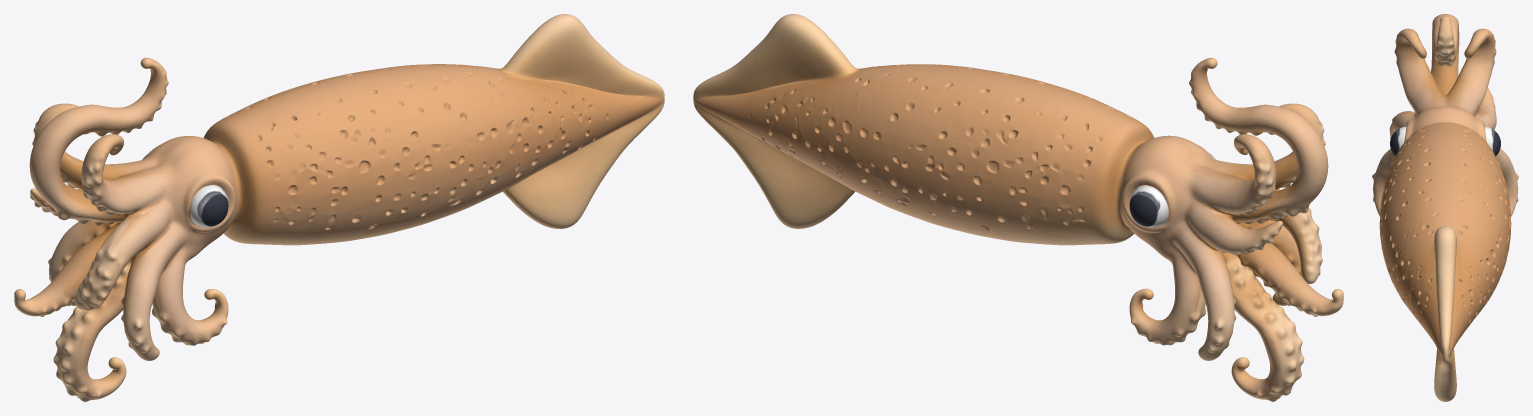
The model's file is Calamar-opalescente.glb.
The picture shows the model from 3 angles, left to right: view 1: azimuth 30°, elevation 25°; view 2: azimuth 150°, elevation 25°; view 3: azimuth 270°, elevation 25°; orthographic projection. The views are drawn at different scales.
Visible parts, largest first — view 1: tripo_node_13fb306f-bf19-404c-9c62-d7942b7a4757; view 2: tripo_node_13fb306f-bf19-404c-9c62-d7942b7a4757; view 3: tripo_node_13fb306f-bf19-404c-9c62-d7942b7a4757.
Part boxes in pixels (left/top/right/bottom): tripo_node_13fb306f-bf19-404c-9c62-d7942b7a4757: left=14, top=14, right=664, bottom=401; tripo_node_13fb306f-bf19-404c-9c62-d7942b7a4757: left=693, top=14, right=1343, bottom=401; tripo_node_13fb306f-bf19-404c-9c62-d7942b7a4757: left=1372, top=14, right=1518, bottom=401.
Size of the model in its own units: 0.9996 by 0.4821 by 0.2419.
1 material, 1 textured.
